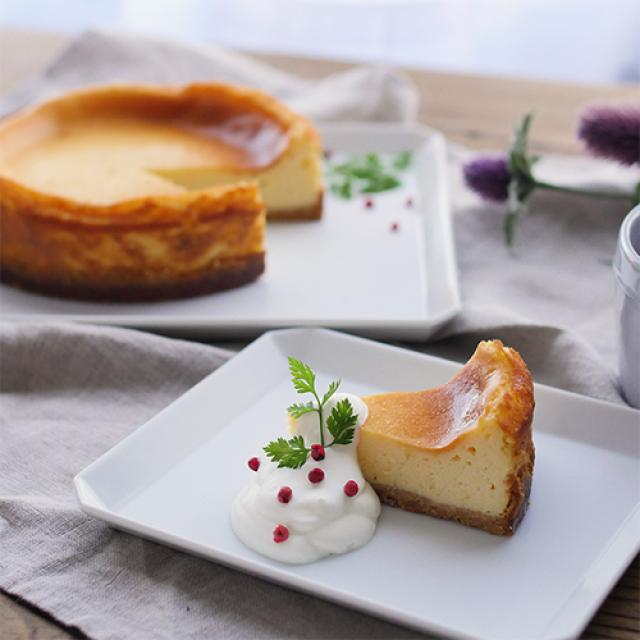cheesecake: (4, 70, 330, 315), (324, 322, 563, 547)
